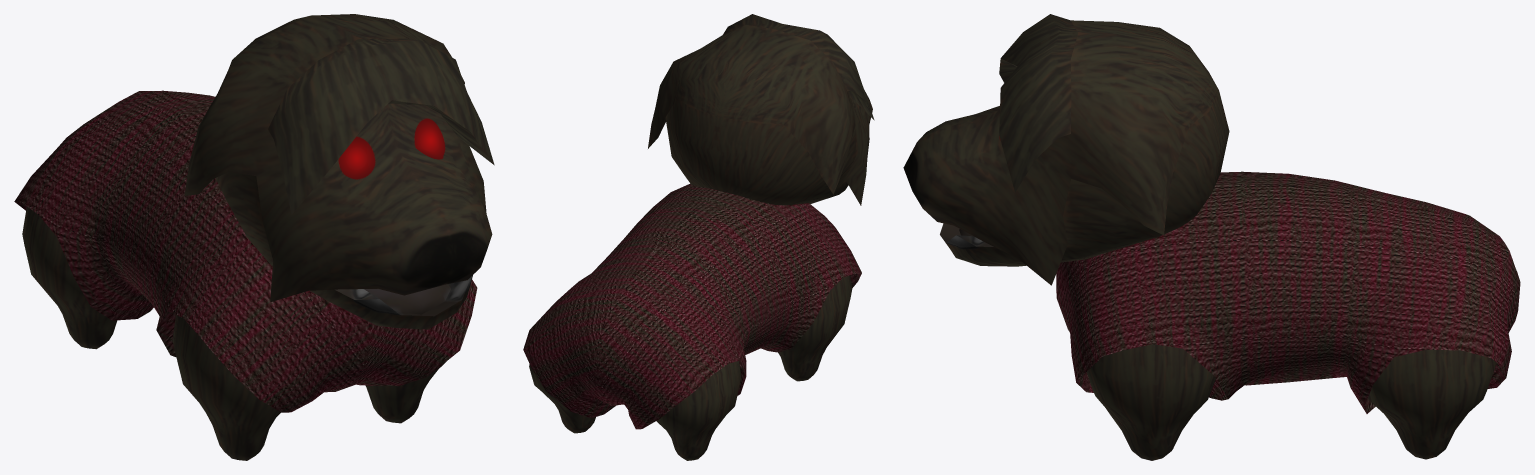
The model's file is Hound.fbx.
3 renders of one model, left to right at view 1: azimuth 30°, elevation 25°; view 2: azimuth 150°, elevation 25°; view 3: azimuth 270°, elevation 25°, orthographic. The views are drawn at different scales.
Parts seen in each view (by area): view 1: Hound; view 2: Hound; view 3: Hound.
Boxes of the visible parts, x1,y1,x2,y2 form: Hound: (14,14,494,460); Hound: (523,14,874,460); Hound: (903,14,1520,460).
Size of the model in its own units: 13.29 by 20.44 by 29.09.
